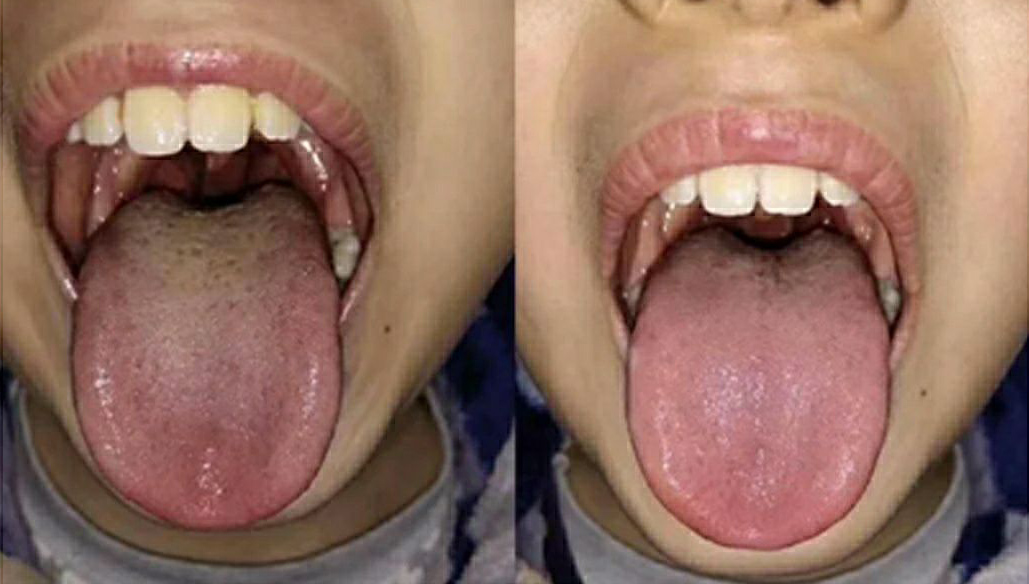baitaishe: (626, 228, 889, 551)
huangtaishe: (71, 186, 342, 532)
